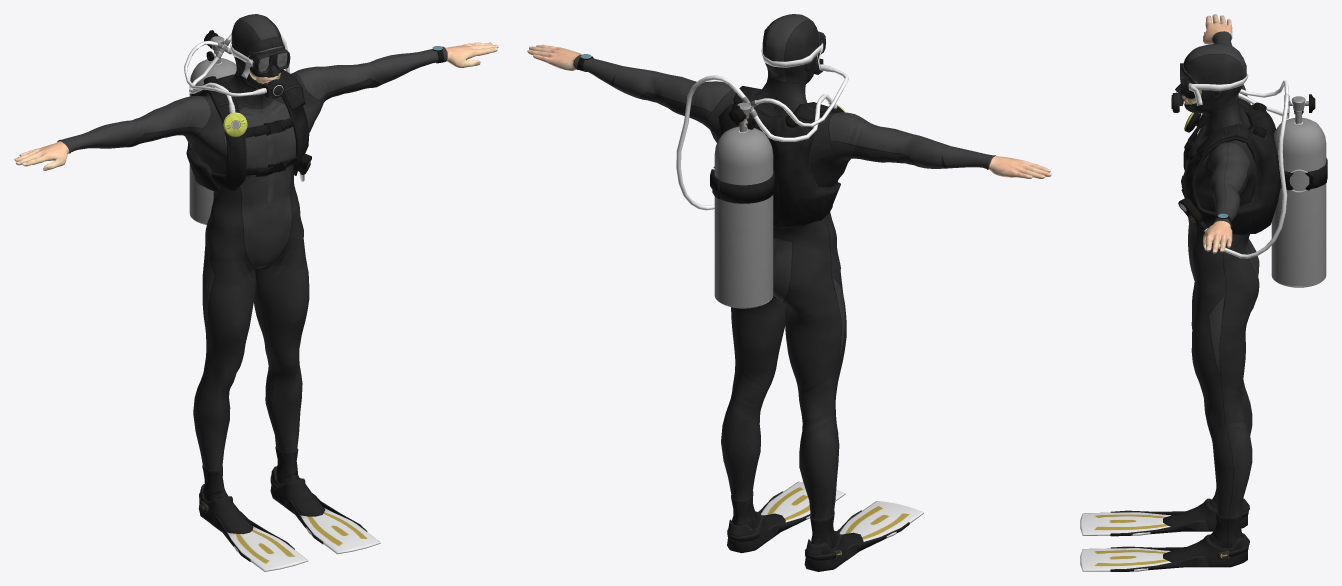
Rendered from diver.glb.
3 views of the same model, side by side, from view 1: azimuth 30°, elevation 25°; view 2: azimuth 150°, elevation 25°; view 3: azimuth 270°, elevation 25° (orthographic). The views are drawn at different scales.
Parts seen in each view (by area): view 1: Object_2, Object_4, Object_5, Object_6, Object_7, Object_9; view 2: Object_2, Object_6, Object_4, Object_5, Object_9; view 3: Object_2, Object_6, Object_4, Object_5, Object_9, Object_7.
Part boxes in pixels (box(x1,y1,x2,y2)): Object_2: box(14, 14, 498, 470); Object_4: box(198, 446, 380, 571); Object_5: box(186, 69, 309, 192); Object_6: box(189, 30, 444, 224); Object_7: box(230, 42, 290, 78); Object_9: box(184, 31, 304, 181); Object_2: box(527, 14, 1051, 519); Object_6: box(577, 54, 845, 308); Object_4: box(727, 481, 923, 571); Object_5: box(710, 86, 840, 227); Object_9: box(676, 68, 848, 210); Object_2: box(1182, 14, 1259, 517); Object_6: box(1178, 94, 1326, 287); Object_4: box(1080, 488, 1249, 571); Object_5: box(1181, 98, 1327, 235); Object_9: box(1204, 80, 1289, 258); Object_7: box(1175, 62, 1248, 105).
Size of the model in its own units: 1.79 by 1.75 by 0.7872.
Materials: 4 (3 with a texture image).
